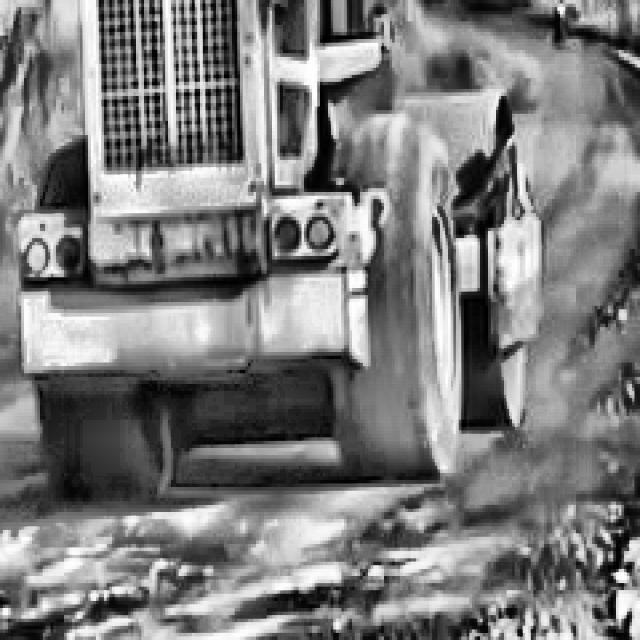buldozerpayloadergrader: (24, 0, 539, 480)
